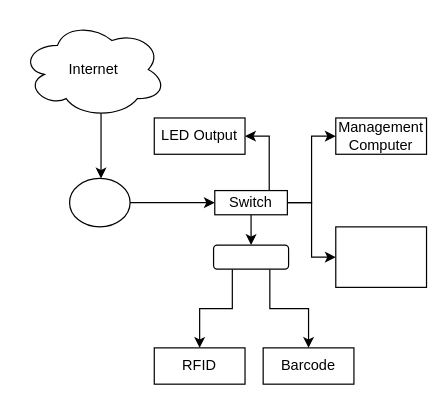
This 448x405 diagram has some shape labels left out. The box of each missing label's shape, as (x1, y1, x2, y2) in pixels:
Router: (68, 177, 130, 227)
Sensors: (212, 244, 289, 269)
Wireless Ordering Terminals: (335, 226, 427, 287)
